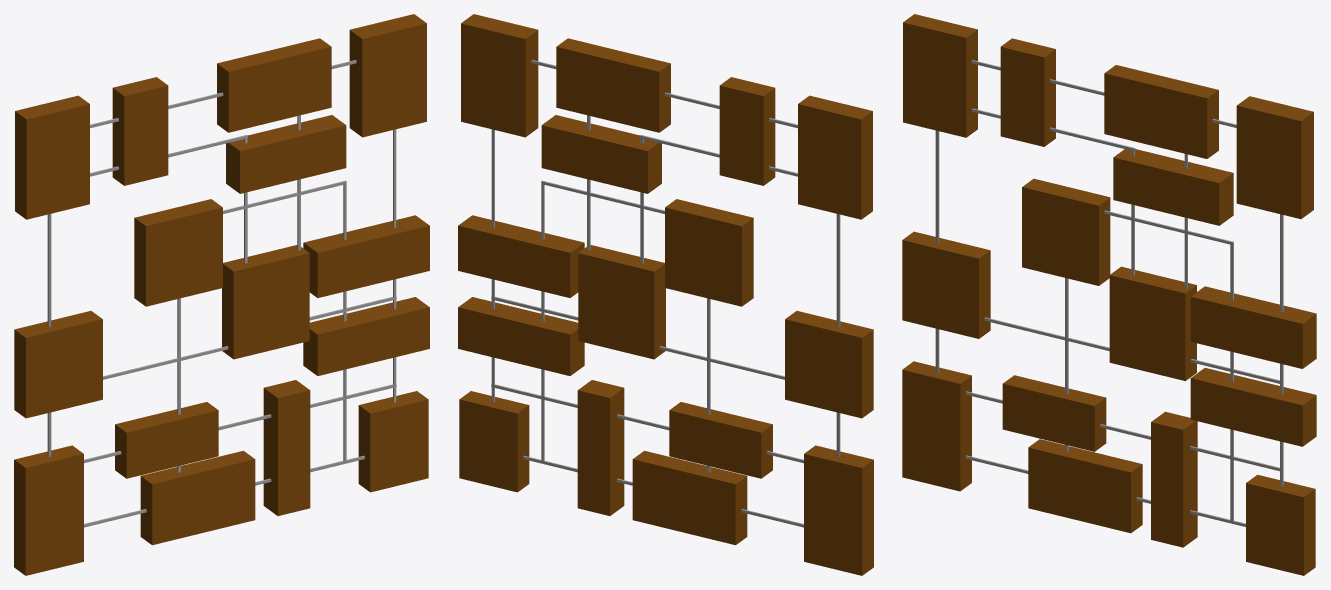
File: woodwallart.fbx
The picture shows the model from 3 angles, left to right: view 1: azimuth 30°, elevation 25°; view 2: azimuth 150°, elevation 25°; view 3: azimuth 330°, elevation 25°; orthographic projection.
Visible parts, largest first — view 1: Cube.022, Cube.021, Cube.015, Cube, Cube.003, Cube.020, Cube.014, Cube.012, Cube.026, Cube.023, Cube.027, Cube.004 (+9 smaller); view 2: Cube.022, Cube.021, Cube.015, Cube, Cube.003, Cube.020, Cube.014, Cube.012, Cube.026, Cube.023, Cube.027, Cube.004 (+9 smaller); view 3: Cube.021, Cube.022, Cube.015, Cube.020, Cube, Cube.003, Cube.014, Cube.012, Cube.026, Cube.023, Cube.027, Cube.004 (+10 smaller).
Part boxes in pixels (x1,y1,x2,y2): Cube.022: (222, 245, 309, 359); Cube.021: (349, 14, 426, 137); Cube.015: (15, 95, 89, 219); Cube: (140, 450, 255, 545); Cube.003: (14, 445, 83, 575); Cube.020: (217, 38, 331, 132); Cube.014: (134, 199, 222, 306); Cube.012: (14, 311, 102, 418); Cube.026: (303, 215, 429, 297); Cube.023: (303, 297, 429, 375); Cube.027: (226, 115, 346, 193); Cube.004: (358, 391, 428, 492); Cube.022: (578, 245, 665, 359); Cube.021: (461, 14, 538, 137); Cube.015: (798, 95, 872, 219); Cube: (632, 450, 747, 545); Cube.003: (804, 445, 873, 575); Cube.020: (556, 38, 670, 132); Cube.014: (665, 199, 753, 306); Cube.012: (785, 311, 873, 418); Cube.026: (458, 215, 584, 297); Cube.023: (458, 297, 584, 375); Cube.027: (541, 115, 661, 193); Cube.004: (459, 391, 529, 492); Cube.021: (1236, 96, 1313, 218); Cube.022: (1109, 266, 1196, 380); Cube.015: (903, 14, 977, 137); Cube.020: (1104, 65, 1218, 158); Cube: (1028, 439, 1142, 533); Cube.003: (902, 361, 971, 491); Cube.014: (1022, 178, 1110, 285); Cube.012: (902, 231, 990, 338); Cube.026: (1190, 286, 1316, 368); Cube.023: (1190, 368, 1316, 446); Cube.027: (1113, 149, 1233, 225); Cube.004: (1246, 474, 1315, 575).
Size of the model in its own units: 1327 by 1438 by 81.2.
